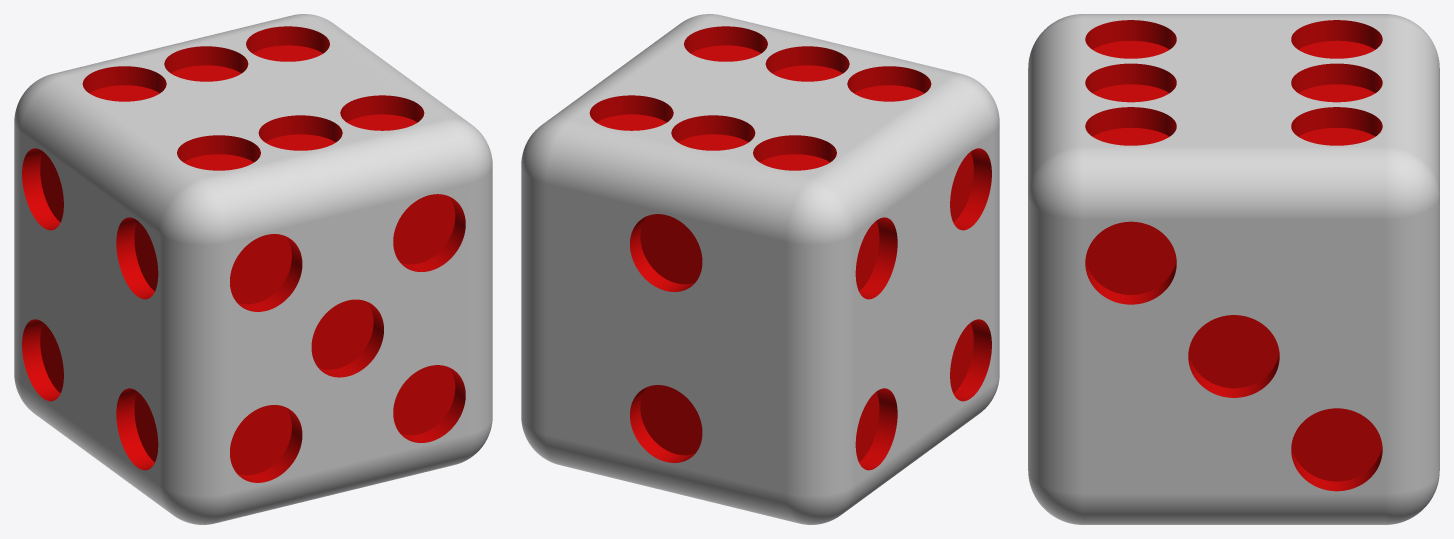
Rendered from shaizi.obj.
3 views of the same model, side by side, from view 1: azimuth 30°, elevation 25°; view 2: azimuth 150°, elevation 25°; view 3: azimuth 270°, elevation 25° (orthographic). The views are drawn at different scales.
Visible parts, largest first — view 1: ____01; view 2: ____01; view 3: ____01.
Part boxes in pixels (bbox=[...]): ____01: bbox=[14, 14, 492, 524]; ____01: bbox=[521, 14, 999, 524]; ____01: bbox=[1028, 14, 1439, 524].
Size of the model in its own units: 0.09 by 0.09 by 0.09.
